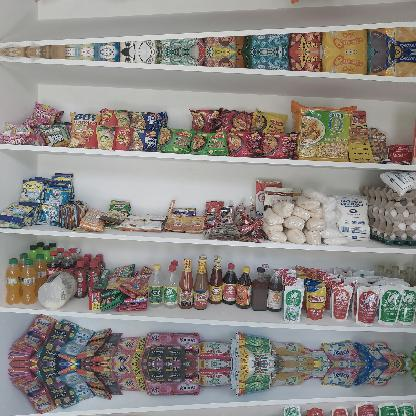Lady-s-Choice: (36, 268, 80, 310)
